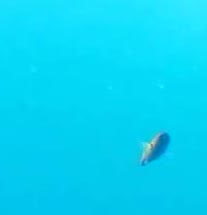smallfish: (135, 125, 180, 170)
